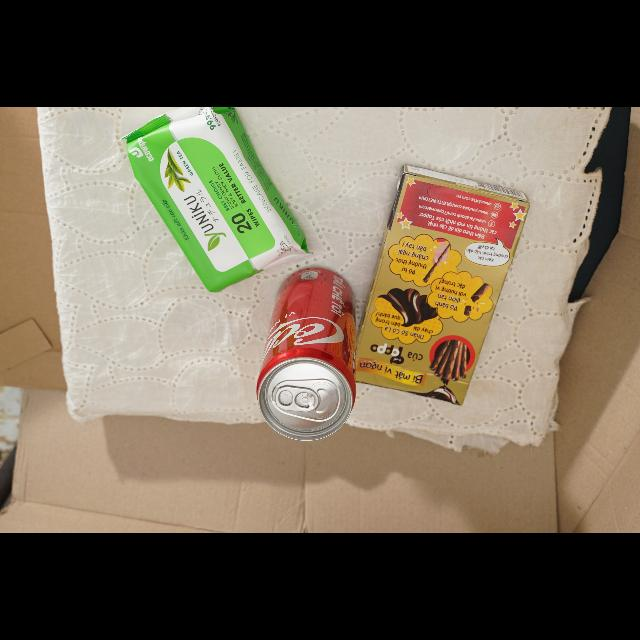banh_toppo_socola: (356, 166, 530, 404)
coca_cola: (256, 267, 356, 439)
khan_giay: (123, 107, 308, 292)
